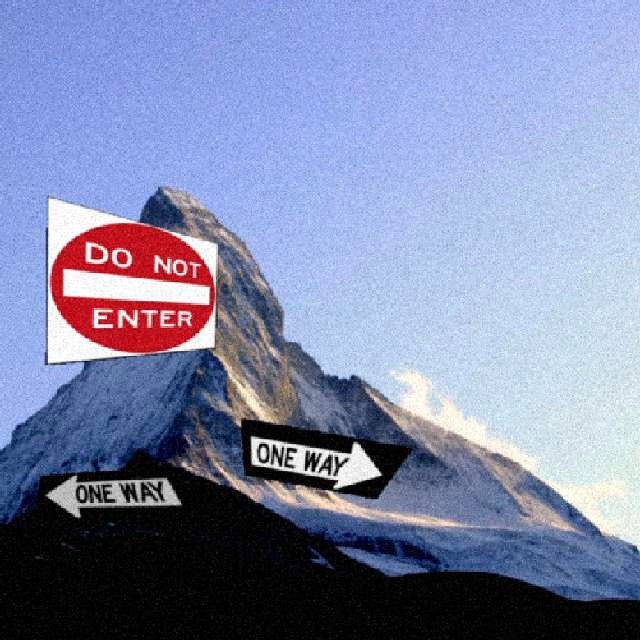DO_NOT_ENTER: (44, 194, 217, 364)
ONE_WAY_ left: (32, 465, 205, 522)
ONE_WAY_ right: (239, 416, 412, 498)
